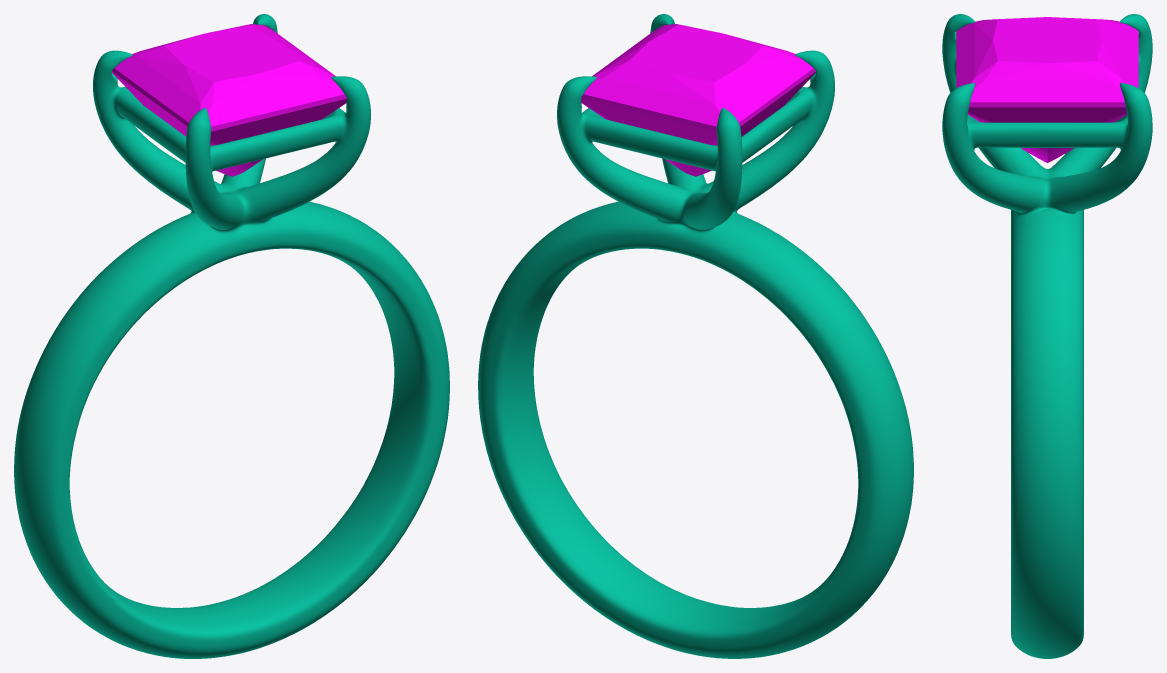
Rendered from BE15698_PR_200ct_RENDER.glb.
3 renders of one model, left to right at view 1: azimuth 30°, elevation 25°; view 2: azimuth 150°, elevation 25°; view 3: azimuth 270°, elevation 25°, orthographic.
Parts seen in each view (by area): view 1: Metal 01, CS_Diamond_Princess; view 2: Metal 01, CS_Diamond_Princess; view 3: Metal 01, CS_Diamond_Princess.
Boxes of the visible parts, x1=… form: Metal 01: x1=14, y1=14, x2=449, y2=658; CS_Diamond_Princess: x1=112, y1=24, x2=346, y2=176; Metal 01: x1=478, y1=14, x2=913, y2=658; CS_Diamond_Princess: x1=581, y1=24, x2=815, y2=176; Metal 01: x1=942, y1=14, x2=1152, y2=658; CS_Diamond_Princess: x1=956, y1=17, x2=1138, y2=162.
Size of the model in its own units: 20.09 by 27.05 by 8.65.
